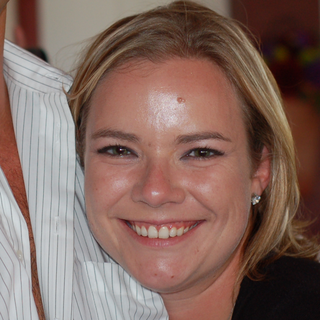eye: (92, 142, 142, 163), (176, 144, 227, 164)
